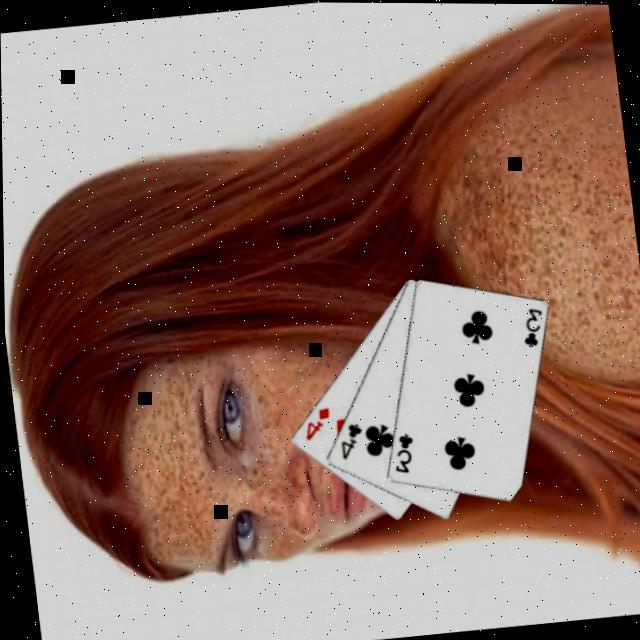3C: (514, 301, 546, 348), (384, 428, 416, 474)
4C: (332, 416, 366, 459)
4D: (296, 402, 332, 441)
